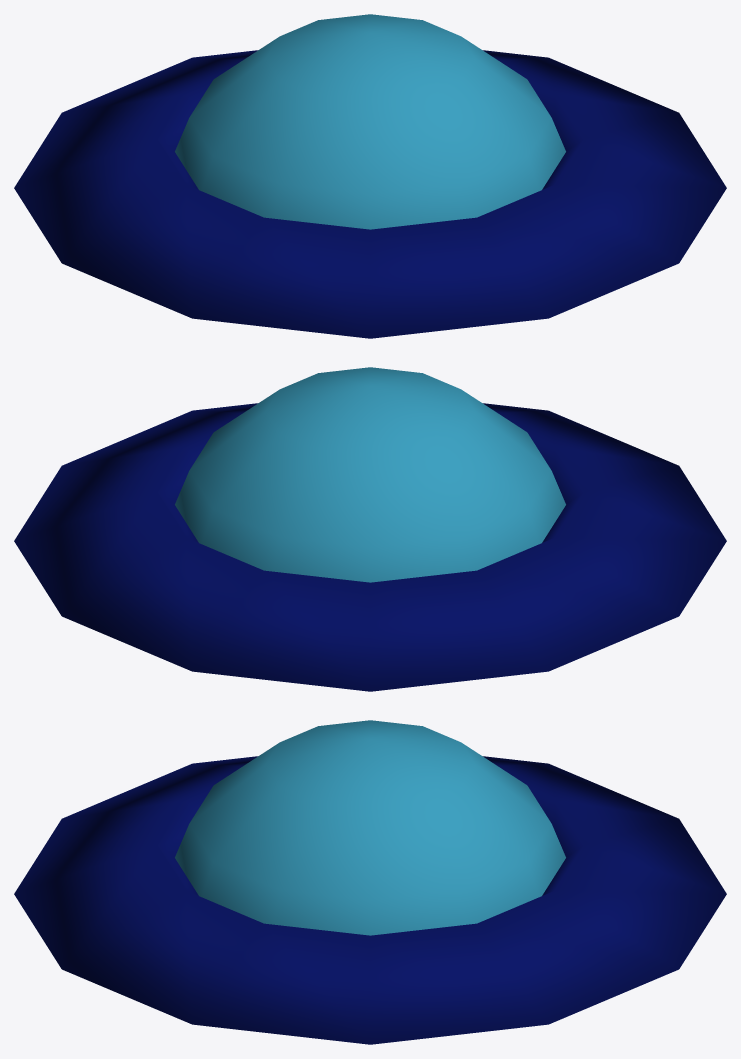
File: slow.fbx
The picture shows the model from 3 angles, top to bottom: view 1: azimuth 30°, elevation 25°; view 2: azimuth 150°, elevation 25°; view 3: azimuth 270°, elevation 25°; orthographic projection.
Visible parts, largest first — view 1: Torus001; view 2: Torus001; view 3: Torus001.
Boxes of the visible parts, box(x1,y1,x2,y2) form: Torus001: box(14, 14, 726, 338); Torus001: box(14, 367, 726, 691); Torus001: box(14, 720, 726, 1044).
Bounding box in the file's own units: 48.13 × 19.59 × 48.13.
